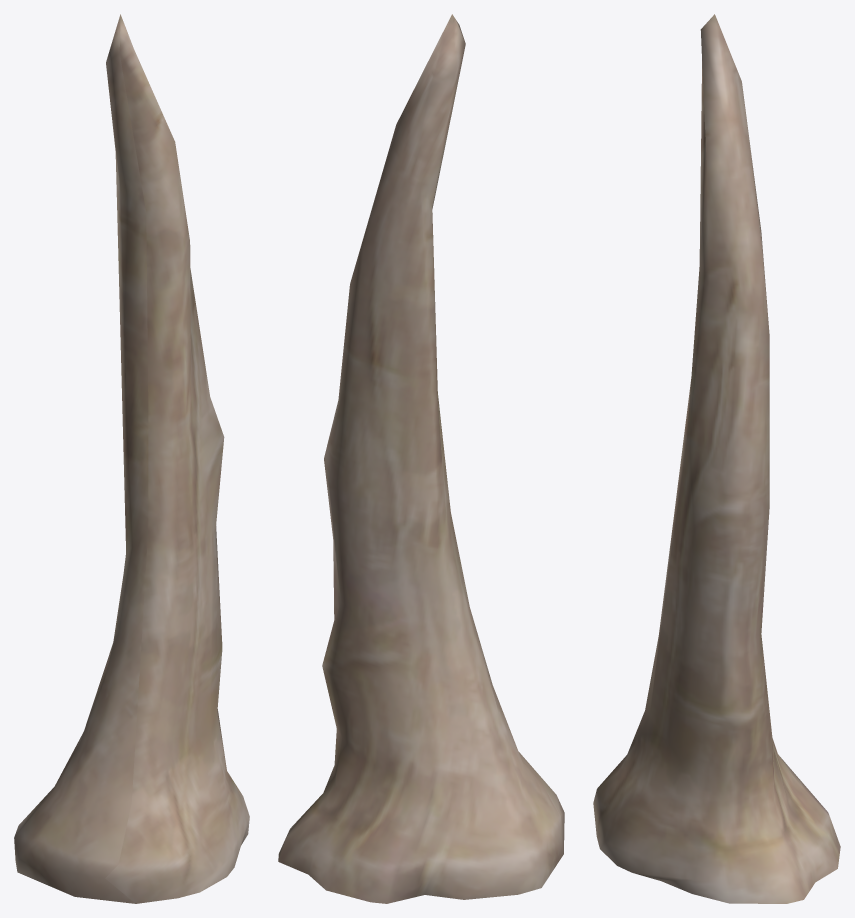
File: Stone_Thorn_02.FBX
3 renders of one model, left to right at view 1: azimuth 30°, elevation 25°; view 2: azimuth 150°, elevation 25°; view 3: azimuth 270°, elevation 25°, orthographic. The views are drawn at different scales.
Parts seen in each view (by area): view 1: Stone_Thorn_02_LOD0; view 2: Stone_Thorn_02_LOD0; view 3: Stone_Thorn_02_LOD0.
Part boxes in pixels (x1,y1,x2,y2): Stone_Thorn_02_LOD0: [14, 14, 249, 903]; Stone_Thorn_02_LOD0: [278, 14, 564, 903]; Stone_Thorn_02_LOD0: [593, 14, 840, 903].
Size of what is drawn, in the model's own units: 0.2552 by 0.8812 by 0.2394.
